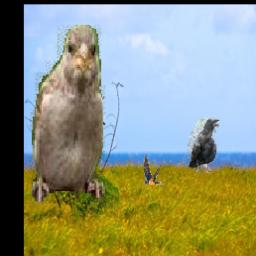Crow: (188, 119, 219, 174)
Sparrow: (30, 23, 105, 215)
Swallow: (144, 154, 165, 186)
